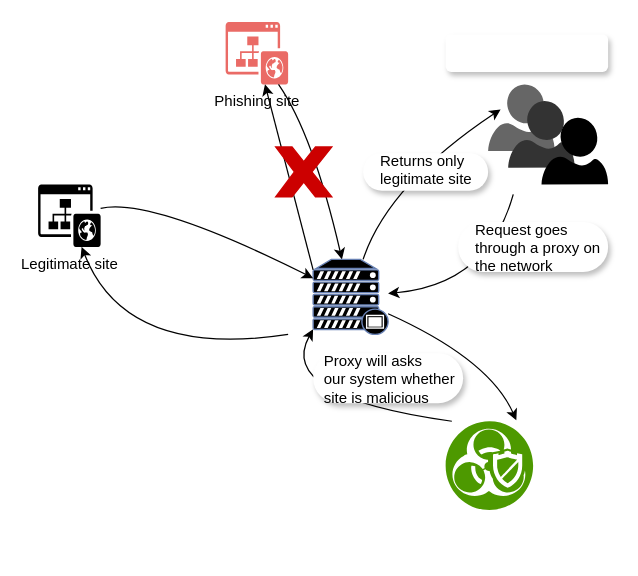
Image size: 638x576. Some labels were removed from this diagram. The shapes that lost their labels are listed below. From the top down, each one's centre as x and y in pixels, then its label:
[527,54]: User clicks on a link or visit some website
[489,465]: Our anti-phishing system
